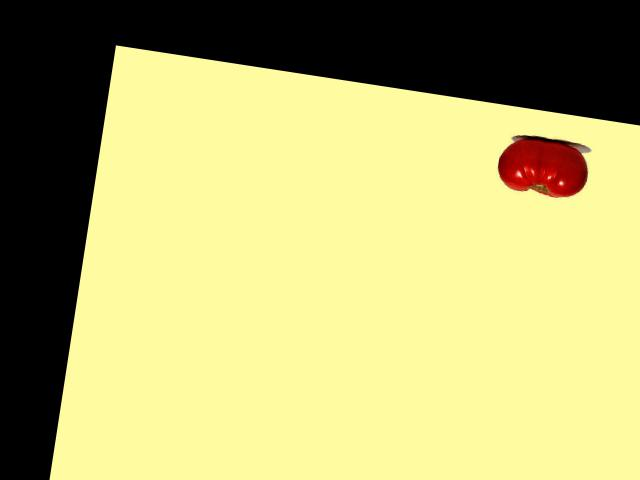tomato: (494, 133, 591, 201)
